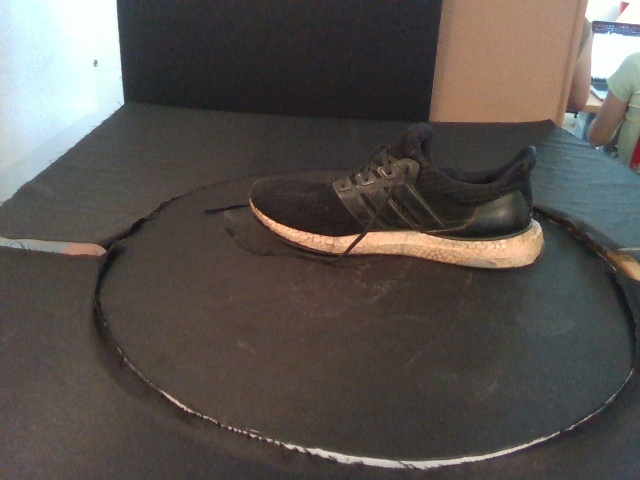shoe: (247, 121, 546, 271)
